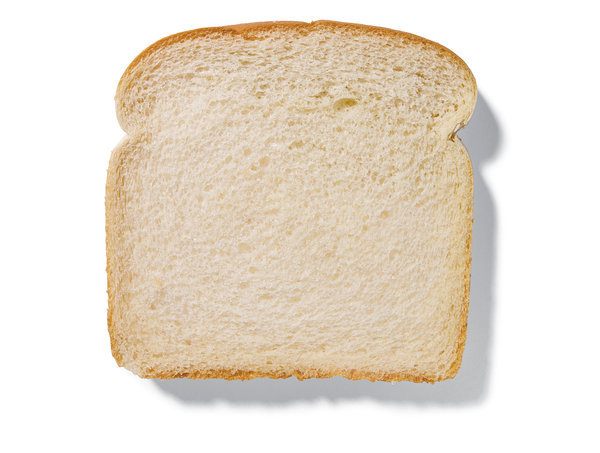slice of bread: (105, 23, 478, 389)
